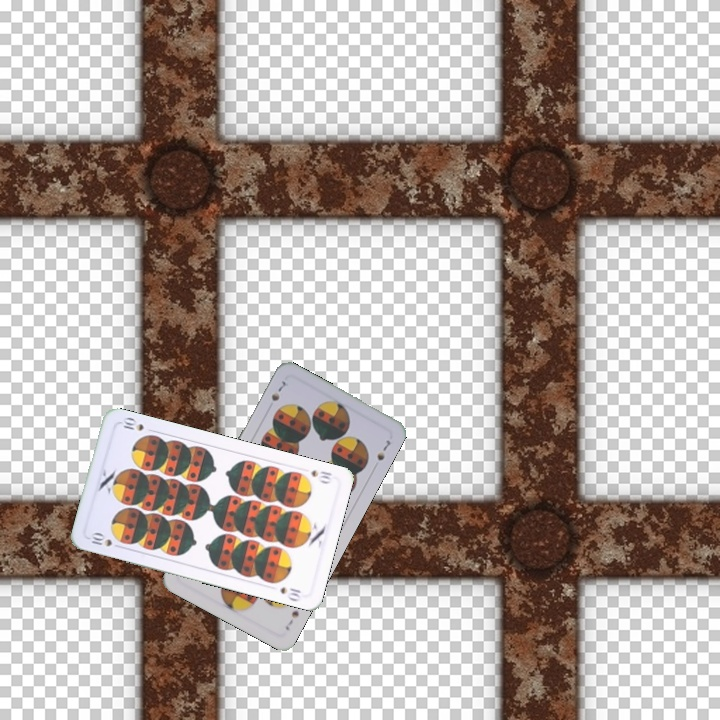S10: (85, 529, 115, 549), (307, 466, 334, 486)
S7: (267, 375, 291, 403), (281, 606, 302, 633)
